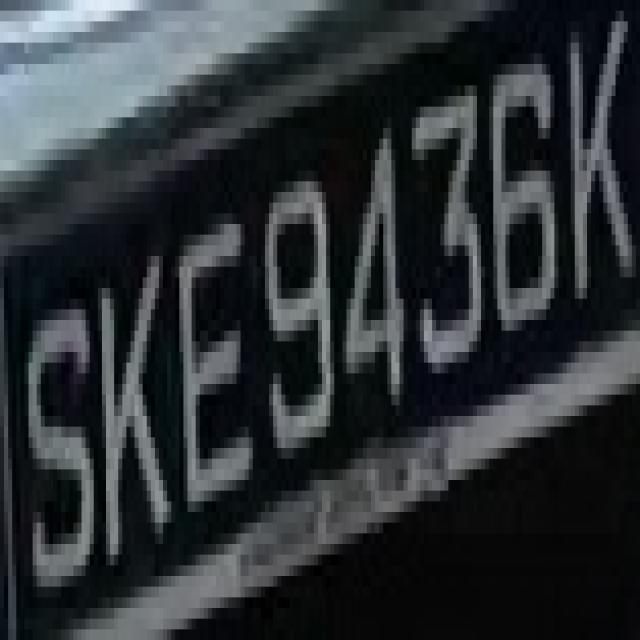3: (412, 85, 481, 374)
4: (322, 128, 416, 448)
6: (485, 53, 559, 363)
9: (253, 149, 342, 512)
E: (171, 192, 253, 533)
K: (94, 224, 163, 565), (558, 0, 628, 331)
S: (12, 299, 94, 597)
